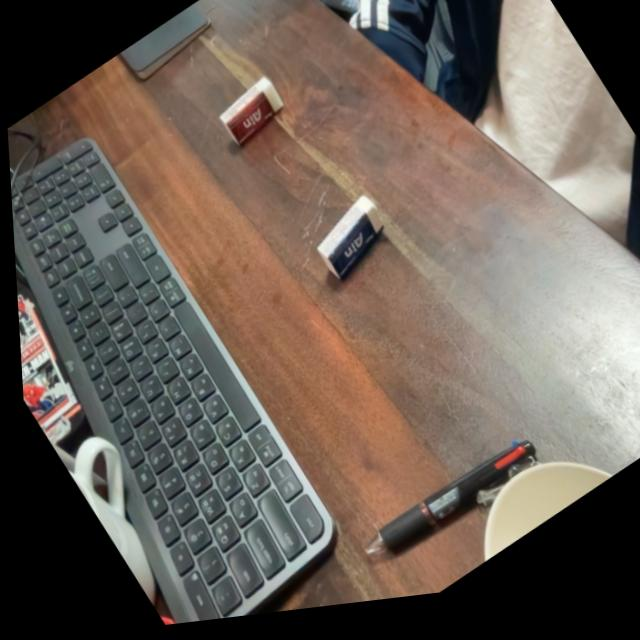blue: (291, 189, 405, 301)
red: (201, 67, 299, 165)
